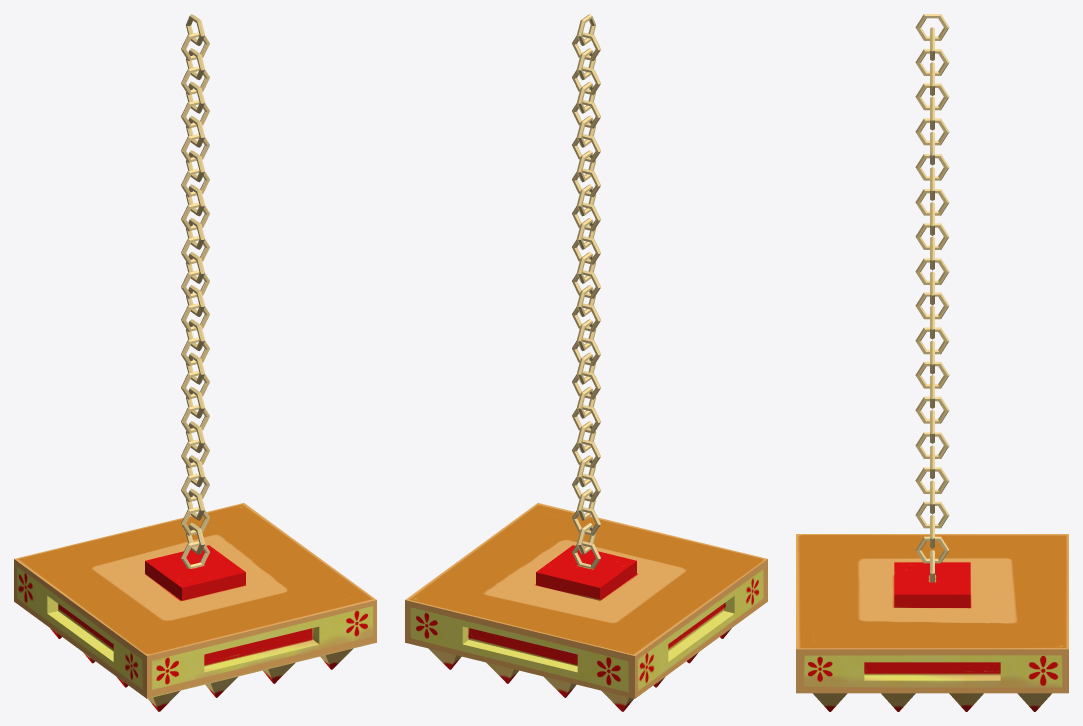
File: crusher.fbx
3 views of the same model, side by side, from view 1: azimuth 30°, elevation 25°; view 2: azimuth 150°, elevation 25°; view 3: azimuth 270°, elevation 25° (orthographic). The views are drawn at different scales.
Parts seen in each view (by area): view 1: pTorus34; view 2: pTorus34; view 3: pTorus34.
Boxes of the visible parts, x1,y1,x2,y2 form: pTorus34: (14, 14, 376, 711); pTorus34: (405, 14, 767, 711); pTorus34: (796, 14, 1068, 711).
Bounding box in the file's own units: 7.18 × 19.01 × 7.18.
Materials: 1 (1 with a texture image).
